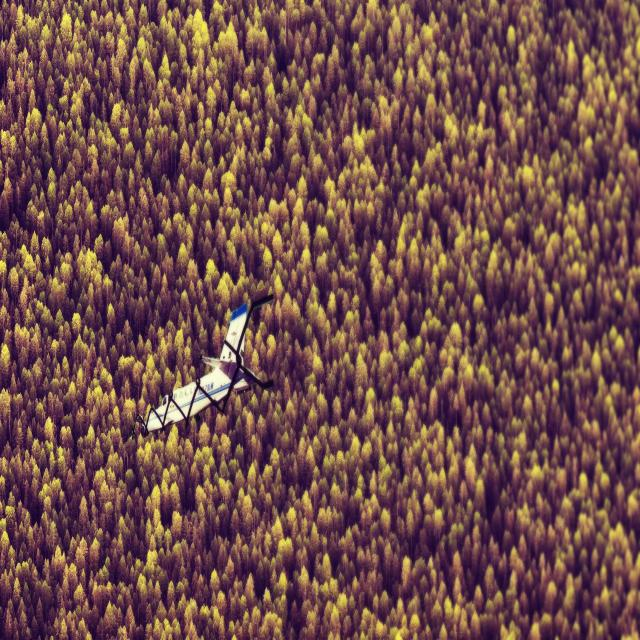airplane: (134, 293, 275, 439)
